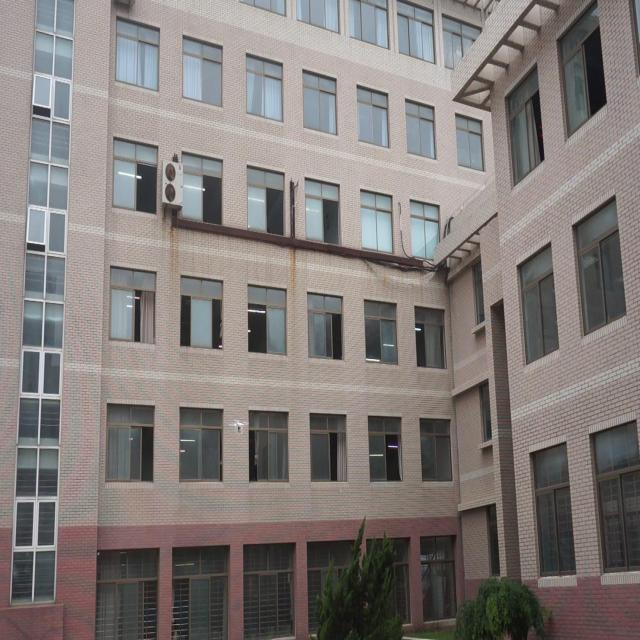drone: (226, 417, 250, 438)
